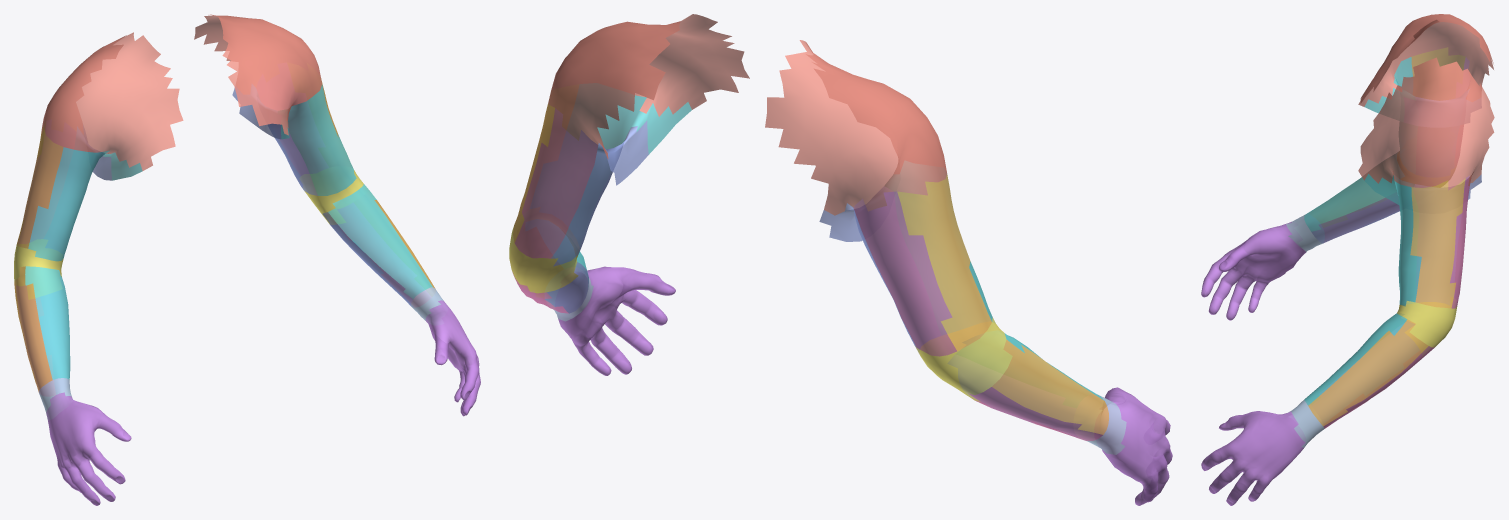
File: neutro_body_v1_detailed_arms_interaction.glb
3 renders of one model, left to right at view 1: azimuth 30°, elevation 25°; view 2: azimuth 150°, elevation 25°; view 3: azimuth 270°, elevation 25°, orthographic. The views are drawn at different scales.
Visible parts, largest first — view 1: zone_right_shoulder, zone_left_shoulder, zone_right_hand, zone_right_upper_arm_front, zone_left_forearm_front, zone_left_upper_arm_front, zone_right_upper_arm_back, zone_left_upper_arm_back, zone_right_forearm_front, zone_left_hand, zone_right_upper_arm_inner, zone_left_forearm_back (+12 smaller); view 2: zone_right_shoulder, zone_left_shoulder, zone_left_upper_arm_front, zone_right_upper_arm_front, zone_left_hand, zone_right_upper_arm_back, zone_right_upper_arm_outer, zone_left_upper_arm_back, zone_right_upper_arm_inner, zone_right_hand, zone_right_forearm_outer, zone_right_elbow (+11 smaller); view 3: zone_left_shoulder, zone_left_hand, zone_left_upper_arm_outer, zone_right_hand, zone_right_shoulder, zone_left_upper_arm_inner, zone_left_forearm_outer, zone_right_upper_arm_inner, zone_left_forearm_inner, zone_left_upper_arm_front, zone_right_forearm_front, zone_right_upper_arm_outer (+12 smaller).
Boxes of the visible parts, x1=… form: zone_right_shoulder: x1=41, y1=32, x2=183, y2=170; zone_left_shoulder: x1=194, y1=14, x2=322, y2=135; zone_right_hand: x1=46, y1=392, x2=131, y2=505; zone_right_upper_arm_front: x1=28, y1=147, x2=142, y2=261; zone_left_forearm_front: x1=328, y1=184, x2=432, y2=298; zone_left_upper_arm_front: x1=278, y1=84, x2=356, y2=195; zone_right_upper_arm_back: x1=18, y1=120, x2=75, y2=243; zone_left_upper_arm_back: x1=257, y1=63, x2=328, y2=175; zone_right_forearm_front: x1=25, y1=266, x2=70, y2=379; zone_left_hand: x1=425, y1=300, x2=480, y2=416; zone_right_upper_arm_inner: x1=44, y1=126, x2=112, y2=255; zone_left_forearm_back: x1=338, y1=203, x2=431, y2=306; zone_right_shoulder: x1=765, y1=40, x2=947, y2=215; zone_left_shoulder: x1=548, y1=14, x2=749, y2=159; zone_left_upper_arm_front: x1=530, y1=83, x2=691, y2=245; zone_right_upper_arm_front: x1=885, y1=161, x2=994, y2=334; zone_left_hand: x1=555, y1=266, x2=675, y2=375; zone_right_upper_arm_back: x1=853, y1=191, x2=956, y2=356; zone_right_upper_arm_outer: x1=897, y1=174, x2=991, y2=350; zone_left_upper_arm_back: x1=514, y1=108, x2=598, y2=258; zone_right_upper_arm_inner: x1=819, y1=187, x2=940, y2=351; zone_right_hand: x1=1094, y1=387, x2=1172, y2=505; zone_right_forearm_outer: x1=992, y1=339, x2=1108, y2=434; zone_right_elbow: x1=915, y1=317, x2=1012, y2=401; zone_left_shoulder: x1=1358, y1=57, x2=1494, y2=190; zone_left_hand: x1=1201, y1=411, x2=1305, y2=505; zone_left_upper_arm_outer: x1=1410, y1=178, x2=1465, y2=308; zone_right_hand: x1=1201, y1=221, x2=1305, y2=320; zone_right_shoulder: x1=1358, y1=14, x2=1493, y2=106; zone_left_upper_arm_inner: x1=1413, y1=174, x2=1481, y2=304; zone_left_forearm_outer: x1=1308, y1=319, x2=1428, y2=426; zone_right_upper_arm_inner: x1=1404, y1=89, x2=1481, y2=176; zone_left_forearm_inner: x1=1312, y1=321, x2=1418, y2=423; zone_left_upper_arm_front: x1=1364, y1=174, x2=1421, y2=306; zone_right_forearm_front: x1=1304, y1=153, x2=1403, y2=231; zone_right_upper_arm_outer: x1=1411, y1=47, x2=1465, y2=100.
Bounding box in the file's own units: 0.7372 × 0.6174 × 0.4381.
